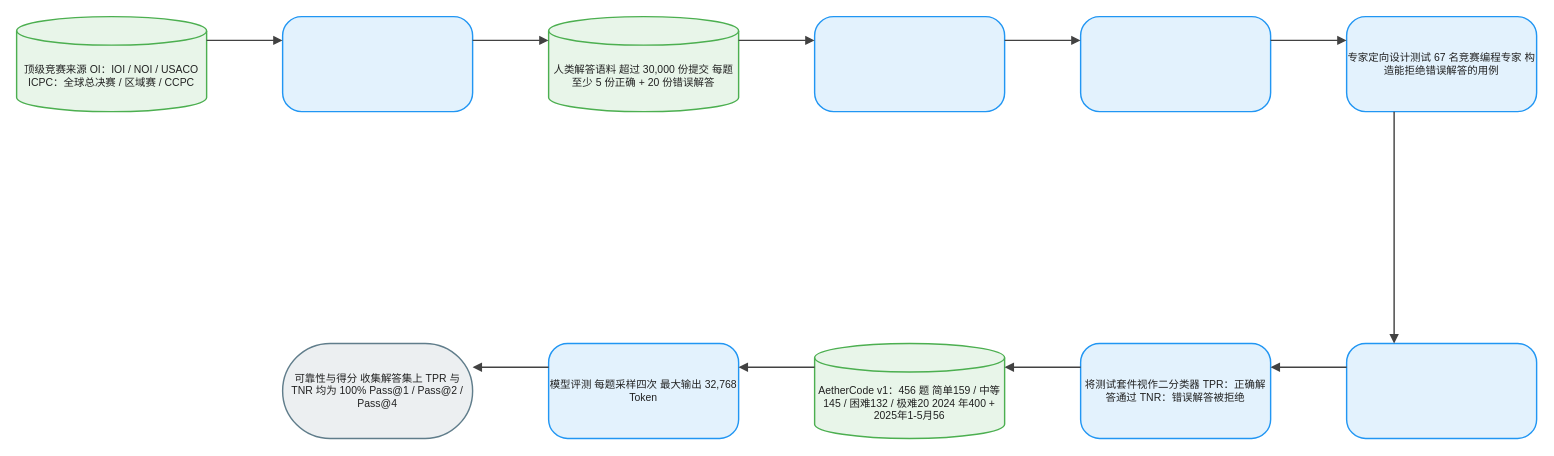
The diagram is 1554 pixels wide and 456 high, and some of its shapes have lost their labels. Here are the shapes that lost their labels. From the top down, the centre of each, then its label:
the point at 377,63: 标准化题目包 PDF 转 Markdown + LaTeX 人工校对并收集官方元数据
the point at 909,63: 题目分类与筛选 难度 / 年份 / 范围 / 算法类别 排除视觉输入；标注特殊评测题
the point at 1175,63: 初始测试套件 有官方用例时收集并标准化 生成器-验证器 + 人工核验验证器
the point at 1441,390: 顶尖团队人工质量审计 所有题目复核边界与特殊情况 专家审查自定义 Checker
